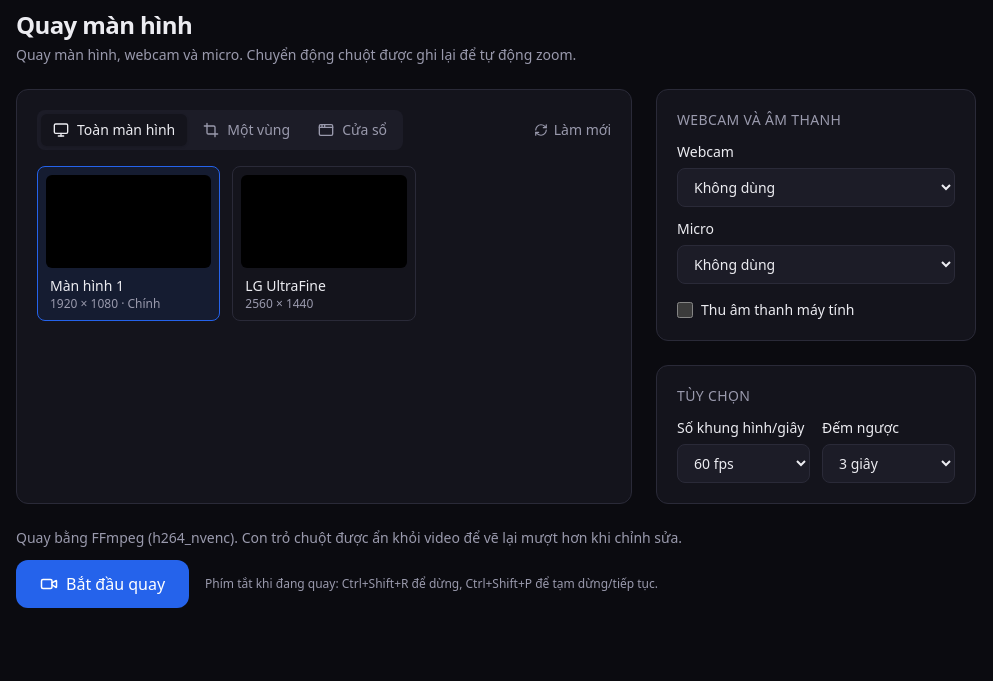
it: RecordPage › hiện lỗi dễ hiểu khi main process từ chối
expect the button with test id "display-1" is shown: met, box [37,166,220,321]
Click the button with test id "start-recording": click(103, 584) [16,560,189,608]
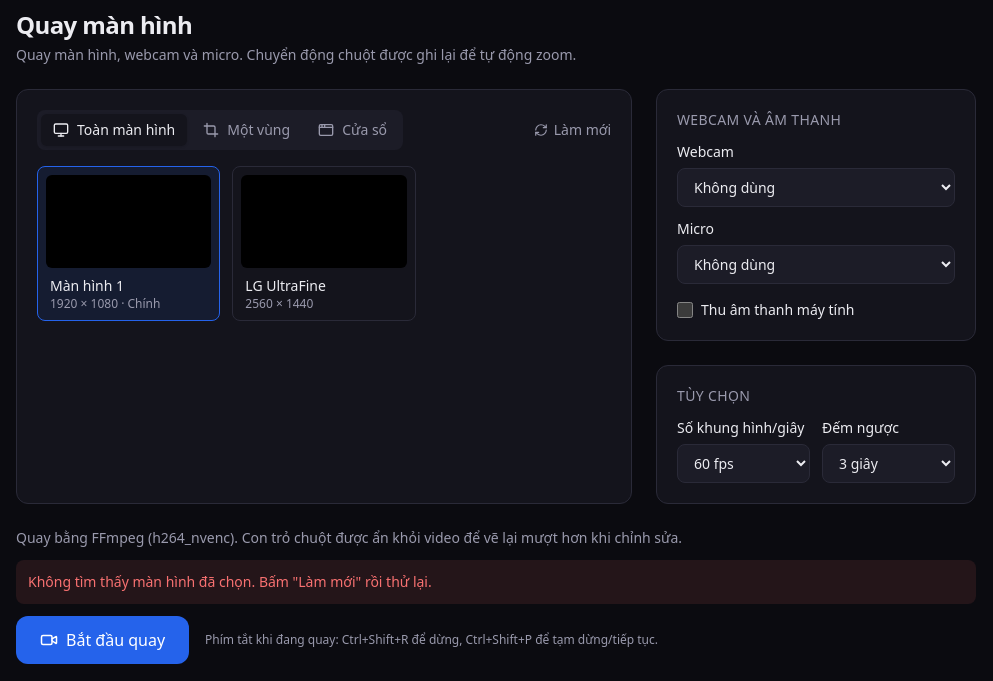
expect the message shows "Không tìm thấy màn hình đã chọn": met, box [28,572,432,591]
